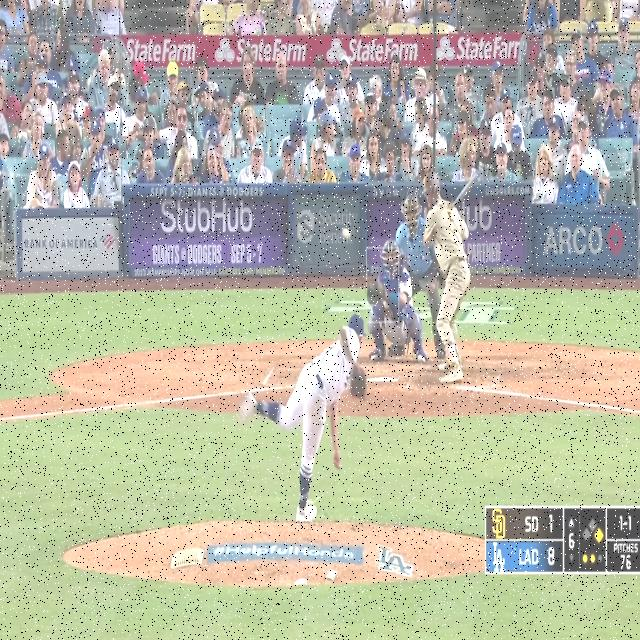baseball: (342, 228, 350, 240)
